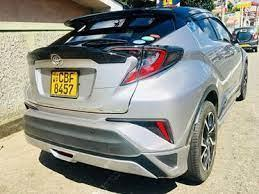license-plate: (50, 70, 75, 95)
